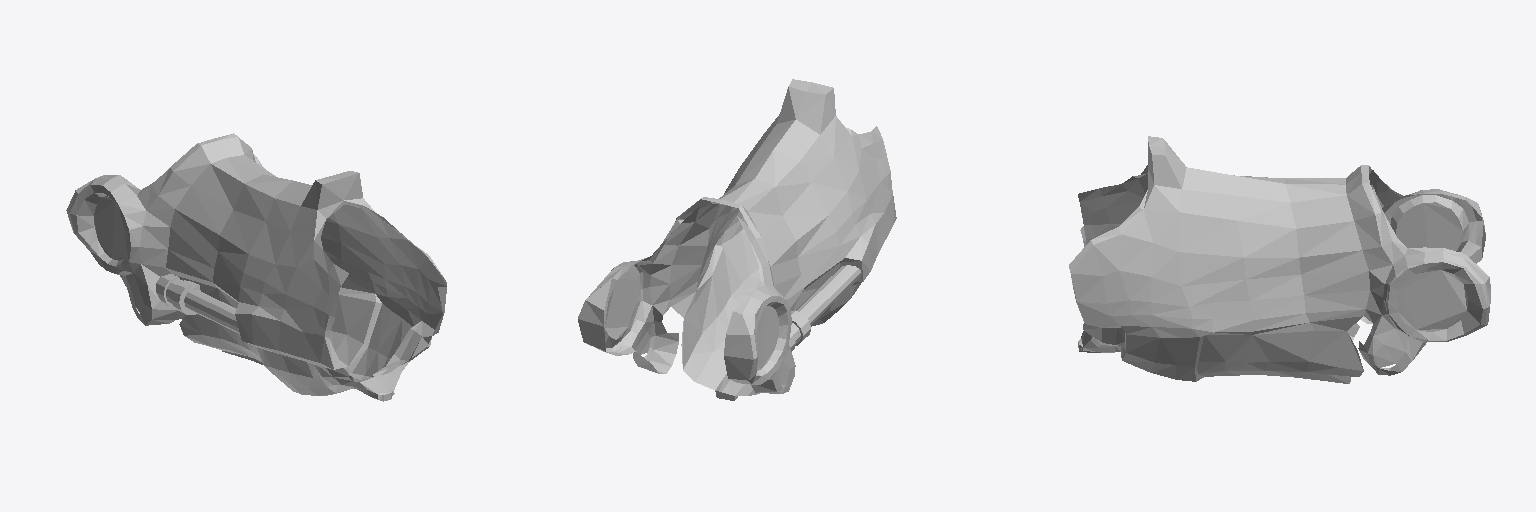
Rendered from X02LeftCalf.obj.
3 renders of one model, left to right at view 1: azimuth 30°, elevation 25°; view 2: azimuth 150°, elevation 25°; view 3: azimuth 270°, elevation 25°, orthographic.
Parts seen in each view (by area): view 1: CPA; view 2: CPA; view 3: CPA.
Boxes of the visible parts, <box> form: CPA: <box>66,133,446,401</box>; CPA: <box>578,79,896,400</box>; CPA: <box>1069,136,1490,383</box>.
Bounding box in the file's own units: 27 × 35.42 × 56.35.